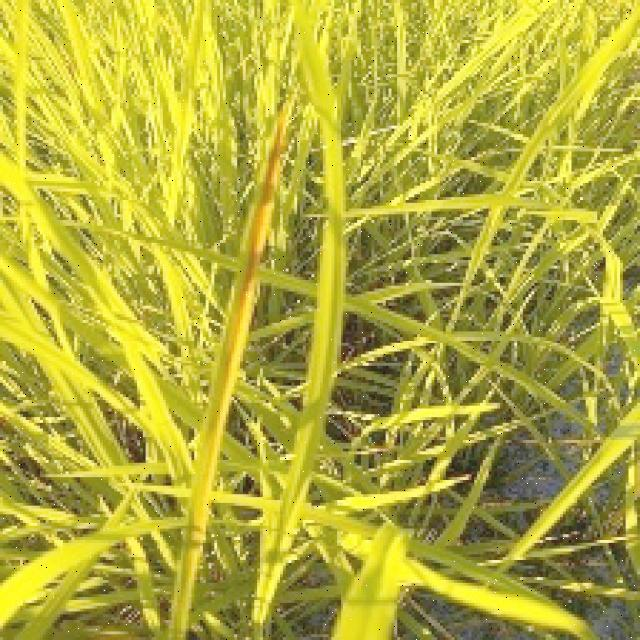health: (0, 0, 360, 540)
